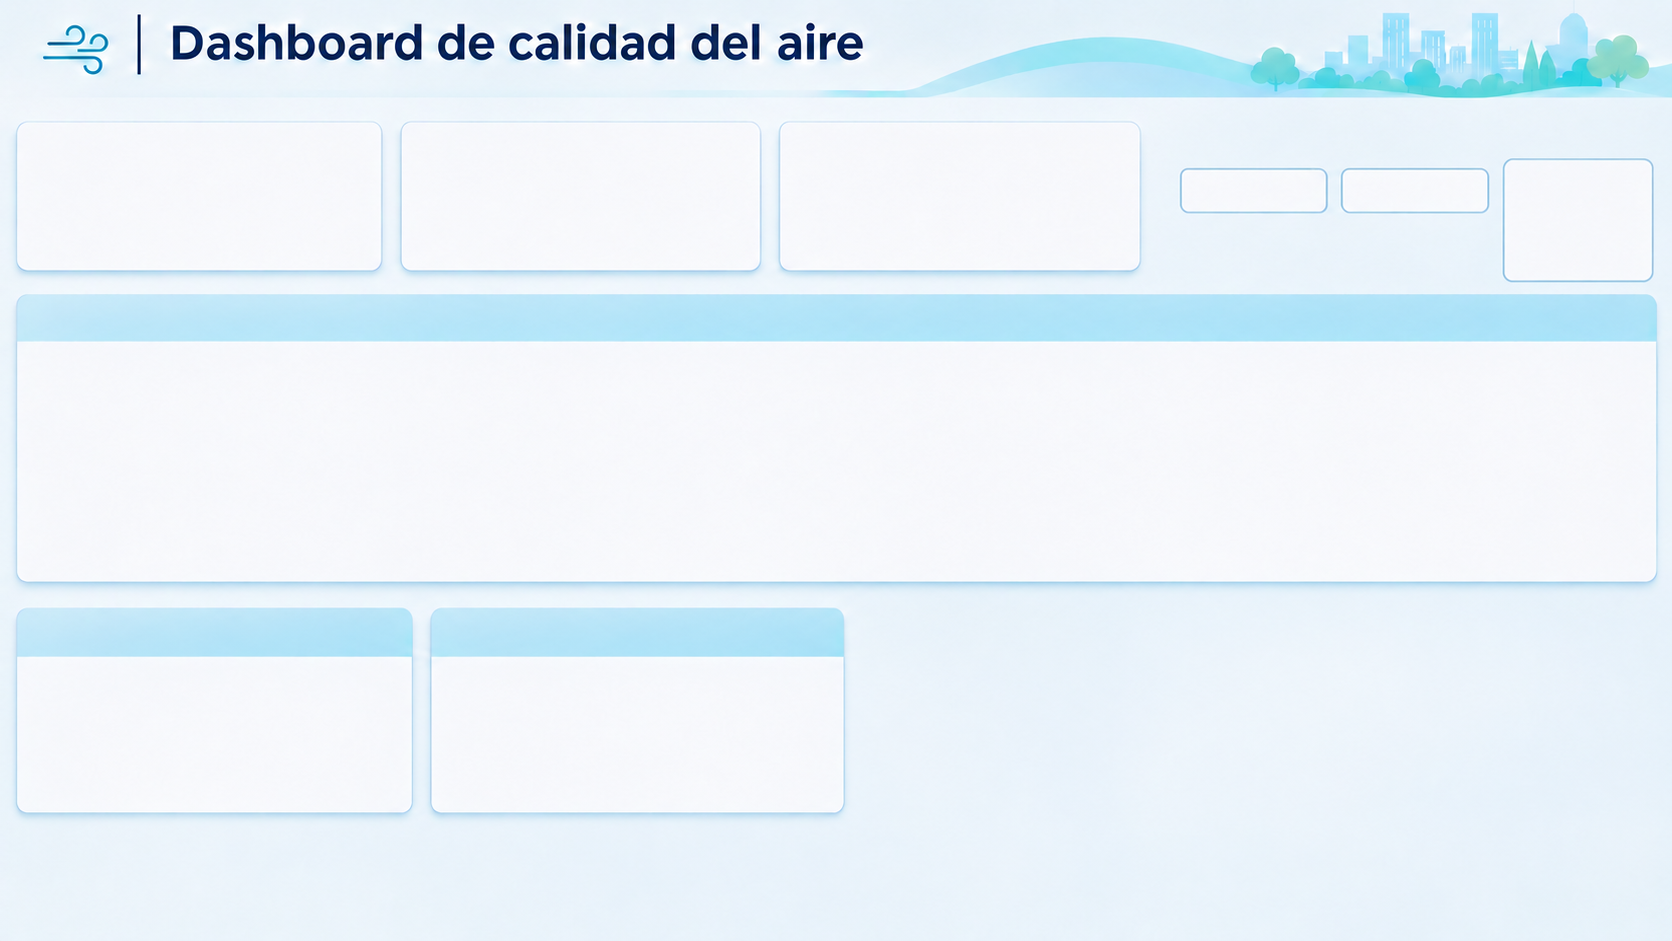

Layout of this report page (visuals, bound fields, positions):
{"tool":"powerbi","page":{"name":"Página 1","canvas":[1920,1080],"ordinal":0},"visuals":[{"type":"cardVisual","fields":{"Data":["Avg(hecho_calidad_aire.co_gt)"]},"box":[425.1,120.9,300,300],"z":0},{"type":"cardVisual","fields":{"Data":["Avg(hecho_calidad_aire.no2_gt)"]},"box":[74.7,120.9,300,300],"z":1000},{"type":"clusteredColumnChart","fields":{"Category":["hecho_calidad_aire.banda_co"],"Y":["CountNonNull(hecho_calidad_aire.banda_co)"]},"box":[758.7,120.9,300,300],"z":2000},{"type":"scatterChart","fields":{"Category":["hecho_calidad_aire.medicion_id"],"X":["Sum(hecho_calidad_aire.co_gt)"],"Y":["Sum(hecho_calidad_aire.pt08_s1_co)"]},"box":[1088,120,300,300],"z":3000},{"type":"slicer","fields":{"Values":["dim_tiempo.anio"]},"box":[74,432,300,300],"z":4000},{"type":"slicer","fields":{"Values":["dim_tiempo.mes"]},"box":[425,431,300,300],"z":5000},{"type":"slicer","fields":{"Values":["hecho_calidad_aire.banda_co"]},"box":[788.2,461.2,300,300],"z":6000},{"type":"textbox","box":[1398,120,300,300],"z":7000}]}

Visuals, with their boxes in screenshot pixels (x1, y1, x2, y2), scaled from the page's 1920x1080 canvas onto the 1672x941 screenshot:
cardVisual - Avg(hecho_calidad_aire.co_gt): <bbox>370, 105, 631, 367</bbox>
cardVisual - Avg(hecho_calidad_aire.no2_gt): <bbox>65, 105, 326, 367</bbox>
clusteredColumnChart - hecho_calidad_aire.banda_co x CountNonNull(hecho_calidad_aire.banda_co): <bbox>661, 105, 922, 367</bbox>
scatterChart - hecho_calidad_aire.medicion_id x Sum(hecho_calidad_aire.co_gt): <bbox>947, 105, 1209, 366</bbox>
slicer - dim_tiempo.anio: <bbox>64, 376, 326, 638</bbox>
slicer - dim_tiempo.mes: <bbox>370, 376, 631, 637</bbox>
slicer - hecho_calidad_aire.banda_co: <bbox>686, 402, 948, 663</bbox>
textbox: <bbox>1217, 105, 1479, 366</bbox>
